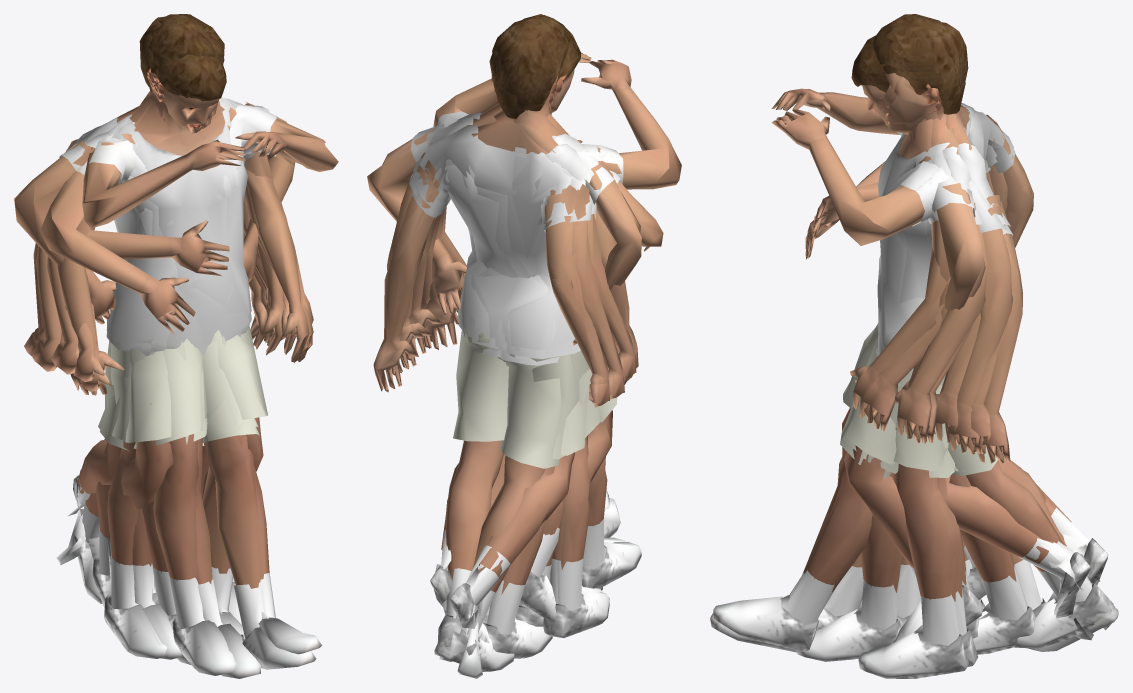
3 renders of one model, left to right at view 1: azimuth 30°, elevation 25°; view 2: azimuth 150°, elevation 25°; view 3: azimuth 270°, elevation 25°, orthographic. The views are drawn at different scales.
Visible parts, largest first — view 1: geh1, steh, hueften, geh6, geh0, foto, geh4, handy, reden, geh5, geh7, geh3 (+1 smaller); view 2: geh6, geh4, geh2, hueften, geh3, geh5, geh7, geh1, foto, steh, geh0, handy (+1 smaller); view 3: geh7, hueften, geh0, geh2, geh5, geh1, geh4, foto, geh3, geh6, steh, handy (+1 smaller).
Boxes of the visible parts, left/top/right/bottom form: geh1: left=33, top=80, right=309, bottom=675; steh: left=56, top=14, right=286, bottom=659; hueften: left=14, top=101, right=295, bottom=658; geh6: left=73, top=78, right=316, bottom=669; geh0: left=59, top=16, right=313, bottom=592; foto: left=82, top=104, right=338, bottom=228; geh4: left=47, top=16, right=274, bottom=602; handy: left=76, top=54, right=241, bottom=658; reden: left=39, top=14, right=229, bottom=334; geh5: left=65, top=87, right=322, bottom=654; geh7: left=56, top=57, right=274, bottom=634; geh3: left=31, top=55, right=296, bottom=664; geh6: left=373, top=85, right=632, bottom=671; geh4: left=402, top=36, right=636, bottom=626; geh2: left=436, top=172, right=625, bottom=646; hueften: left=367, top=123, right=641, bottom=637; geh3: left=416, top=57, right=624, bottom=661; geh5: left=387, top=60, right=638, bottom=658; geh7: left=386, top=50, right=618, bottom=678; geh1: left=441, top=151, right=641, bottom=623; foto: left=433, top=52, right=681, bottom=189; steh: left=423, top=14, right=629, bottom=592; geh0: left=397, top=20, right=617, bottom=623; handy: left=471, top=30, right=616, bottom=636; geh7: left=797, top=56, right=1111, bottom=661; hueften: left=858, top=103, right=985, bottom=678; geh0: left=874, top=35, right=1007, bottom=638; geh2: left=816, top=124, right=1113, bottom=648; geh5: left=713, top=62, right=1045, bottom=652; geh1: left=842, top=110, right=1035, bottom=654; geh4: left=844, top=22, right=1001, bottom=643; foto: left=771, top=88, right=954, bottom=245; geh3: left=896, top=44, right=1093, bottom=640; geh6: left=710, top=81, right=1118, bottom=652; steh: left=869, top=16, right=977, bottom=666; handy: left=812, top=35, right=959, bottom=658.
Size of the model in its own units: 0.8456 by 1.78 by 1.04.
1 material, 1 textured.
